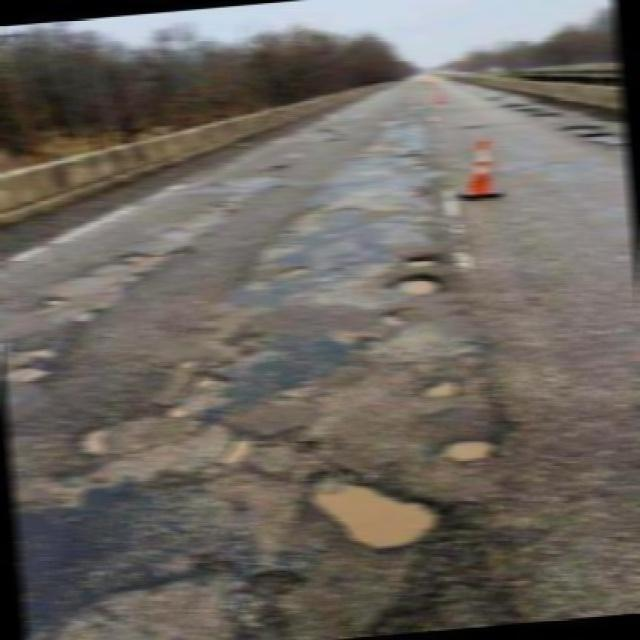Pothole: (278, 467, 460, 556), (267, 197, 359, 257), (209, 420, 313, 462), (365, 136, 449, 186), (0, 335, 72, 383), (441, 430, 502, 470), (112, 246, 192, 276), (222, 328, 278, 368), (246, 264, 316, 296), (479, 94, 559, 122), (563, 120, 629, 149), (74, 413, 114, 455), (391, 269, 443, 301), (155, 392, 200, 426), (418, 374, 465, 405), (183, 361, 228, 391), (78, 300, 112, 326), (34, 292, 75, 309), (403, 253, 439, 270)
